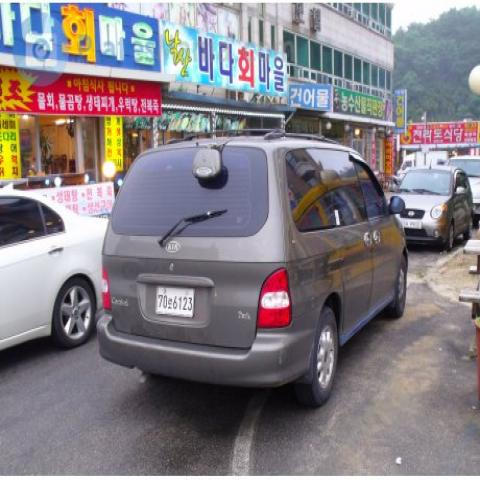LP: (142, 277, 209, 327)
